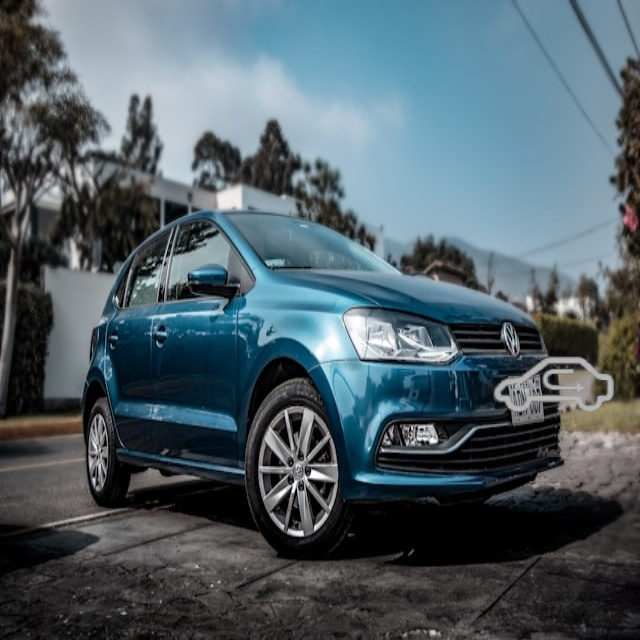symbol: (476, 308, 633, 465)
